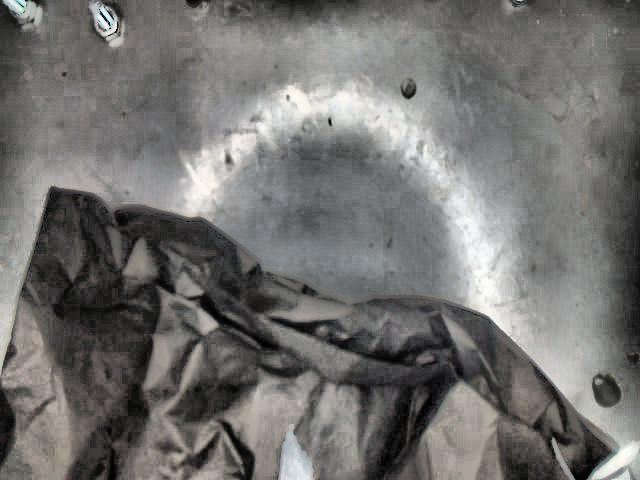Paper: (0, 189, 640, 480)
